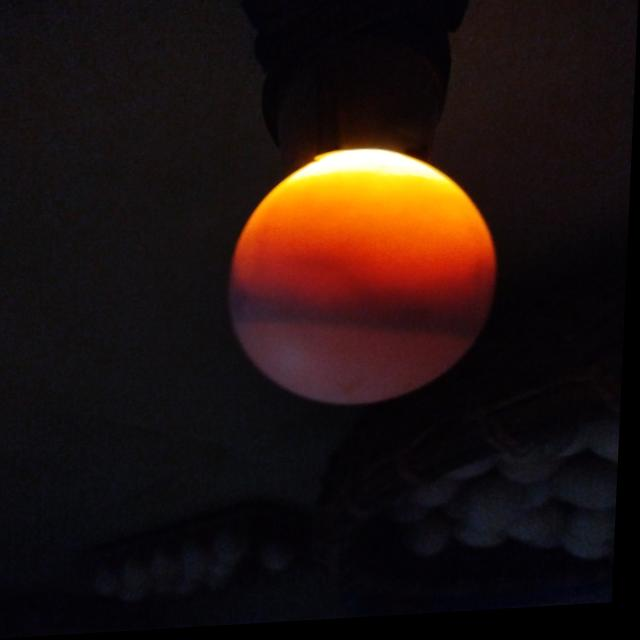Area Infectada: (227, 271, 495, 351)
